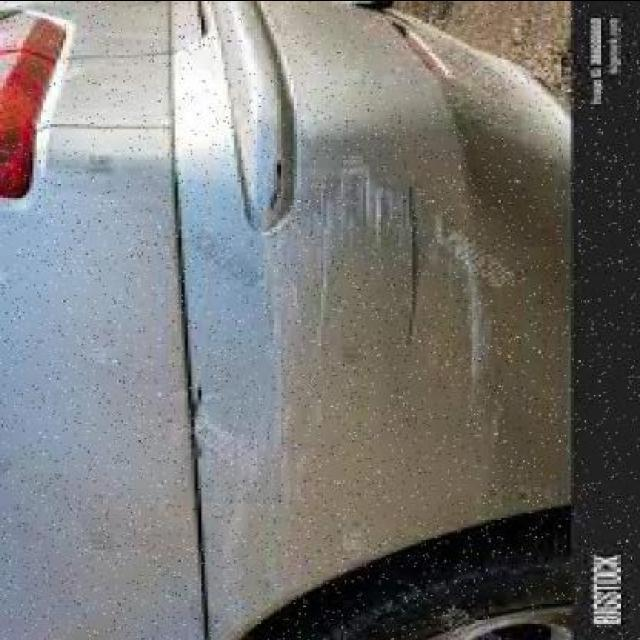rear-bumper-dent: (172, 5, 581, 640)
